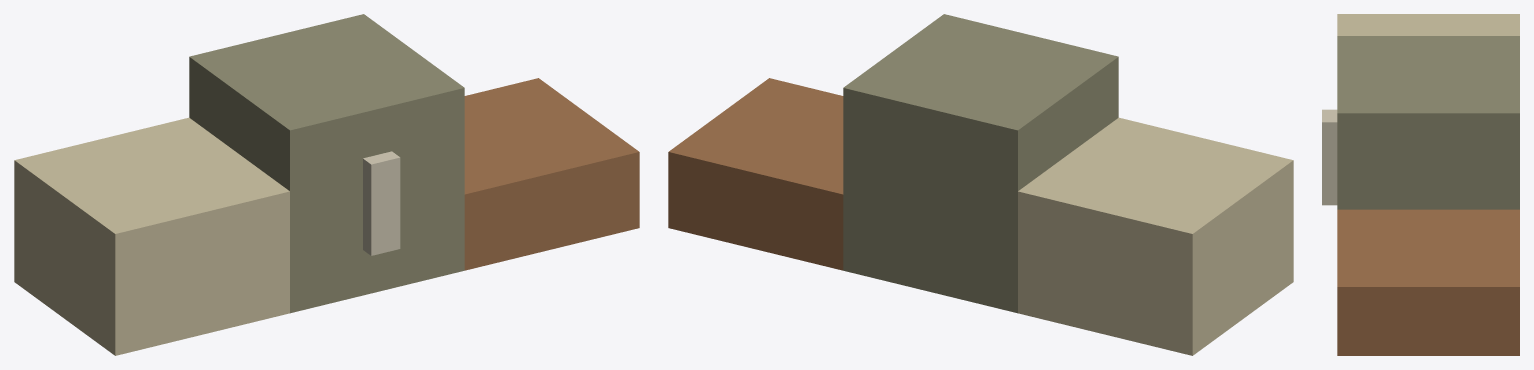
The model's file is civic-11.glb.
3 views of the same model, side by side, from view 1: azimuth 30°, elevation 25°; view 2: azimuth 150°, elevation 25°; view 3: azimuth 270°, elevation 25° (orthographic). The views are drawn at different scales.
Parts seen in each view (by area): view 1: Council podium; view 2: Council podium; view 3: Council podium.
Part boxes in pixels (bbox=[...]): Council podium: bbox=[14, 14, 639, 355]; Council podium: bbox=[668, 14, 1293, 355]; Council podium: bbox=[1322, 14, 1519, 355].
Size of the model in its own units: 2.88 by 0.96 by 1.04.
